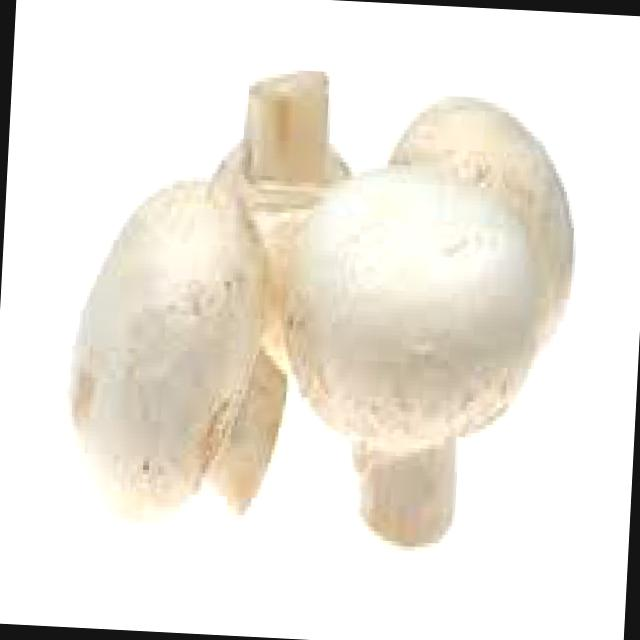Agaricus bisporus: (256, 177, 553, 550), (68, 167, 296, 526)
